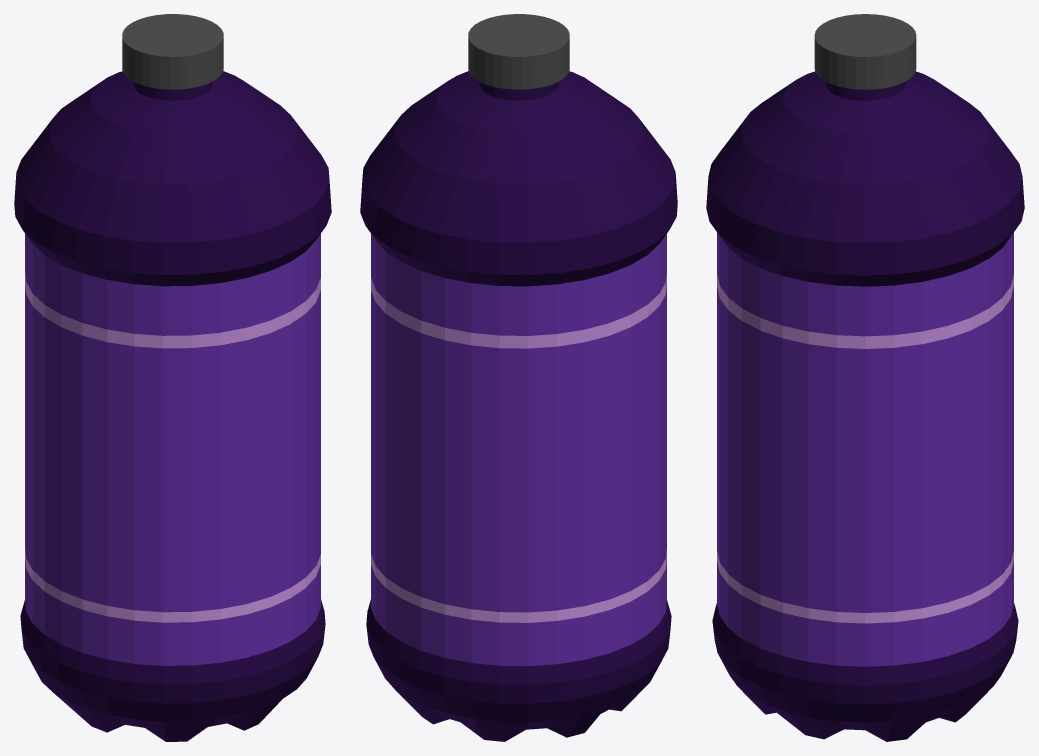
The model's file is Large Grape Drink.fbx.
The picture shows the model from 3 angles, left to right: view 1: azimuth 30°, elevation 25°; view 2: azimuth 150°, elevation 25°; view 3: azimuth 270°, elevation 25°; orthographic projection.
Parts seen in each view (by area): view 1: Large Grape Drink; view 2: Large Grape Drink; view 3: Large Grape Drink.
Boxes of the visible parts, bbox=[...] form: Large Grape Drink: bbox=[14, 14, 331, 741]; Large Grape Drink: bbox=[360, 14, 677, 741]; Large Grape Drink: bbox=[706, 14, 1024, 741].
Bounding box in the file's own units: 28.59 × 65.54 × 28.59.
1 material, 1 textured.
